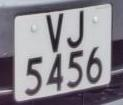4: (45, 48, 68, 98)
5: (20, 53, 48, 100), (65, 48, 86, 94)
6: (85, 43, 106, 90)
J: (65, 8, 88, 52)
V: (42, 11, 68, 55)
